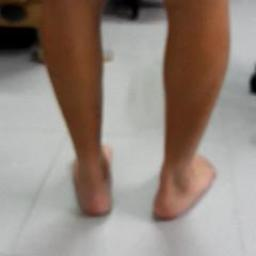Back View -Both Feet-: (51, 116, 226, 236)
